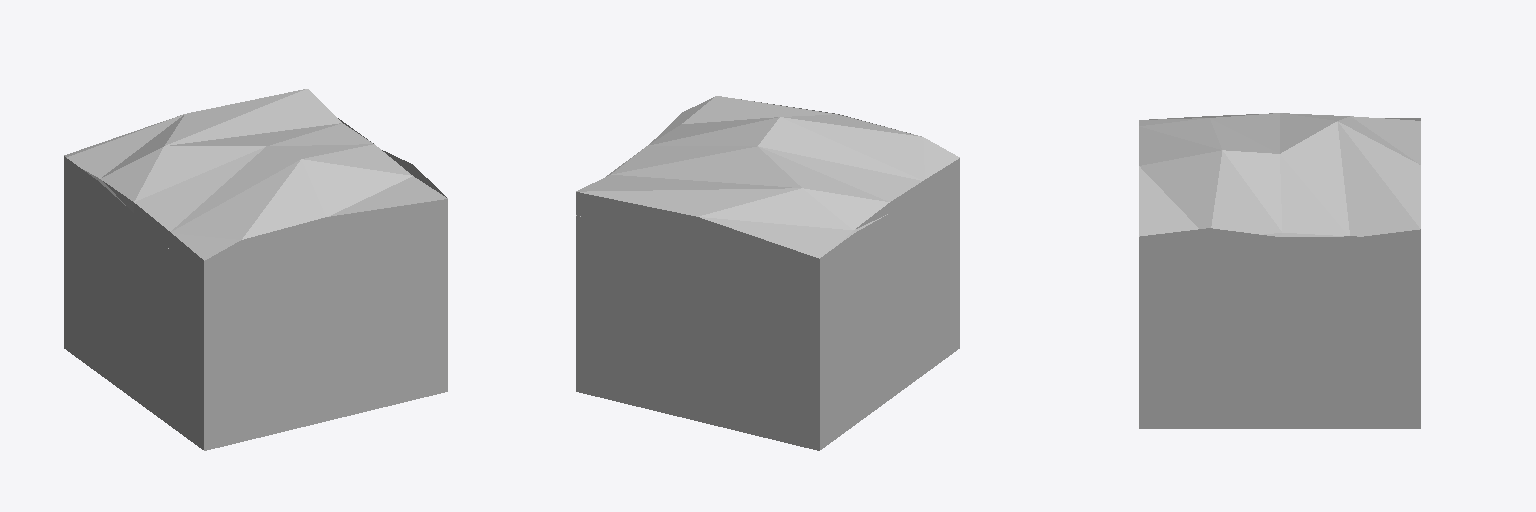
The model's file is grass10.obj.
3 views of the same model, side by side, from view 1: azimuth 30°, elevation 25°; view 2: azimuth 150°, elevation 25°; view 3: azimuth 270°, elevation 25° (orthographic).
Visible parts, largest first — view 1: Cube; view 2: Cube; view 3: Cube.
Part boxes in pixels (x1,y1,x2,y2): Cube: (64, 89, 447, 450); Cube: (576, 96, 959, 450); Cube: (1139, 113, 1420, 428).
Bounding box in the file's own units: 159 × 142 × 159.